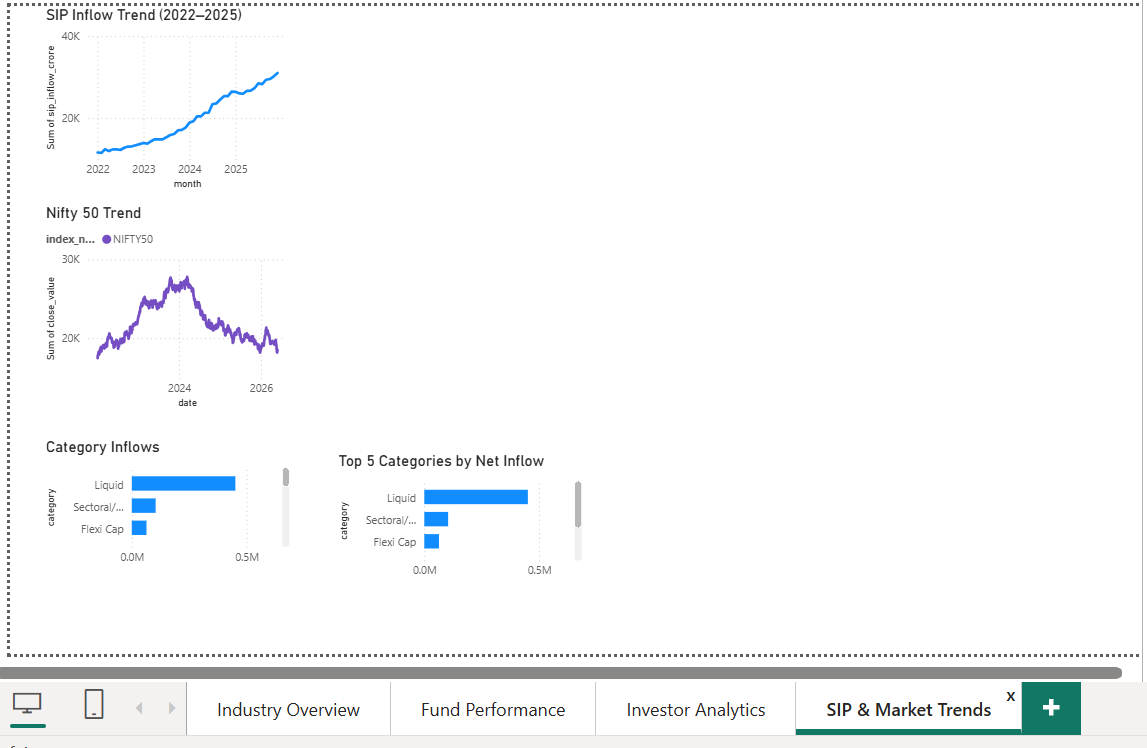

Layout of this report page (visuals, bound fields, positions):
{"tool":"powerbi","page":{"name":"SIP & Market Trends","canvas":[1280,720],"ordinal":3},"visuals":[{"type":"lineChart","title":"SIP Inflow Trend (2022–2025)","fields":{"Category":["04_monthly_sip_inflows_clean.month"],"Y":["Sum(04_monthly_sip_inflows_clean.sip_inflow_crore)"]},"box":[35,0,280,208.3],"z":0},{"type":"lineChart","title":"Nifty 50 Trend","fields":{"Category":["10_benchmark_indices_clean.date"],"Y":["Sum(10_benchmark_indices_clean.close_value)"],"Series":["10_benchmark_indices_clean.index_name"]},"box":[35,220,280,231.7],"z":1000},{"type":"clusteredBarChart","title":"Category Inflows","fields":{"Category":["05_category_inflows_clean.category"],"Y":["Sum(05_category_inflows_clean.net_inflow_crore)"]},"box":[35,480,280,150],"z":2000},{"type":"clusteredBarChart","title":"Top 5 Categories by Net Inflow","fields":{"Category":["05_category_inflows_clean.category"],"Y":["Sum(05_category_inflows_clean.net_inflow_crore)"]},"box":[360,495,280,150],"z":3000}]}

Visuals, with their boxes on the page's 1280x720 design canvas (x1, y1, x2, y2). These are canvas units, not pixel positions in the 1147x748 screenshot, which may show the page scaled, cropped or inside an application window:
"SIP Inflow Trend (2022–2025)" lineChart: [x1=35, y1=0, x2=315, y2=208]
"Nifty 50 Trend" lineChart: [x1=35, y1=220, x2=315, y2=452]
"Category Inflows" clusteredBarChart: [x1=35, y1=480, x2=315, y2=630]
"Top 5 Categories by Net Inflow" clusteredBarChart: [x1=360, y1=495, x2=640, y2=645]
